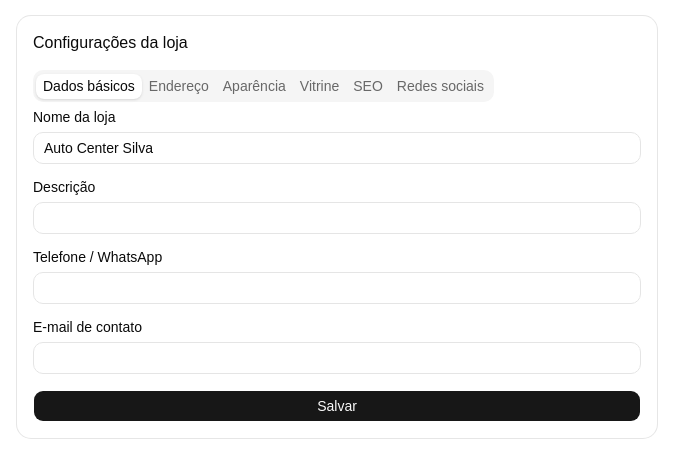
Test: ConfiguracoesPage › edita e salva os campos de SEO
Expected: the field labelled "Nome da loja" is shown, [33,132,641,164]
Click the tab "SEO".
click(368, 86)  # box [346,74,390,98]
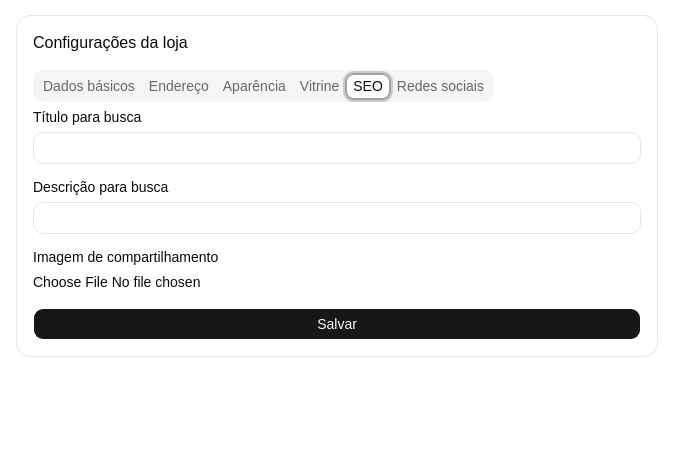
Type "Auto Center Silva - Carros seminovos" into the field labelled "Título para busca".
click(337, 148); type("Auto Center Silva - Carros seminovos")  # box [33,132,641,164]
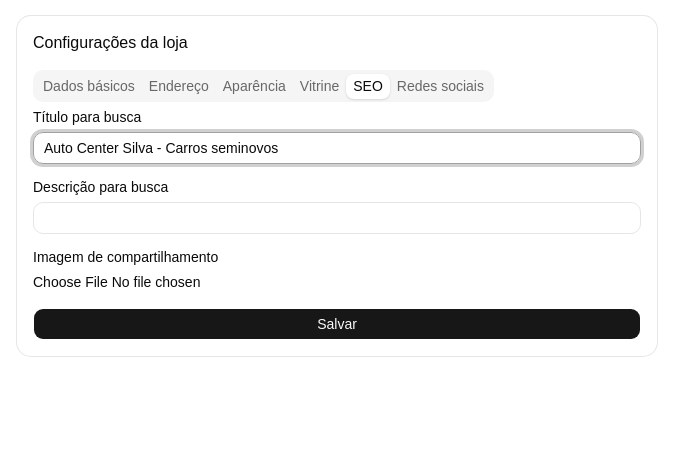
Click the button "Salvar".
click(337, 324)  # box [33,308,641,340]
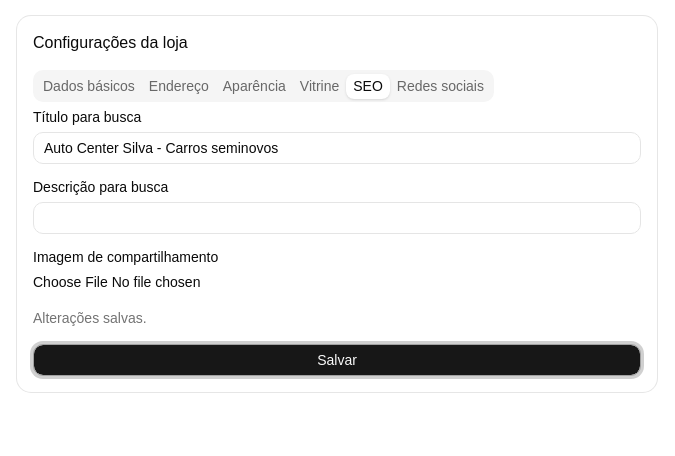
Result: the text "Alterações salvas." is shown at [33,310,147,326]
